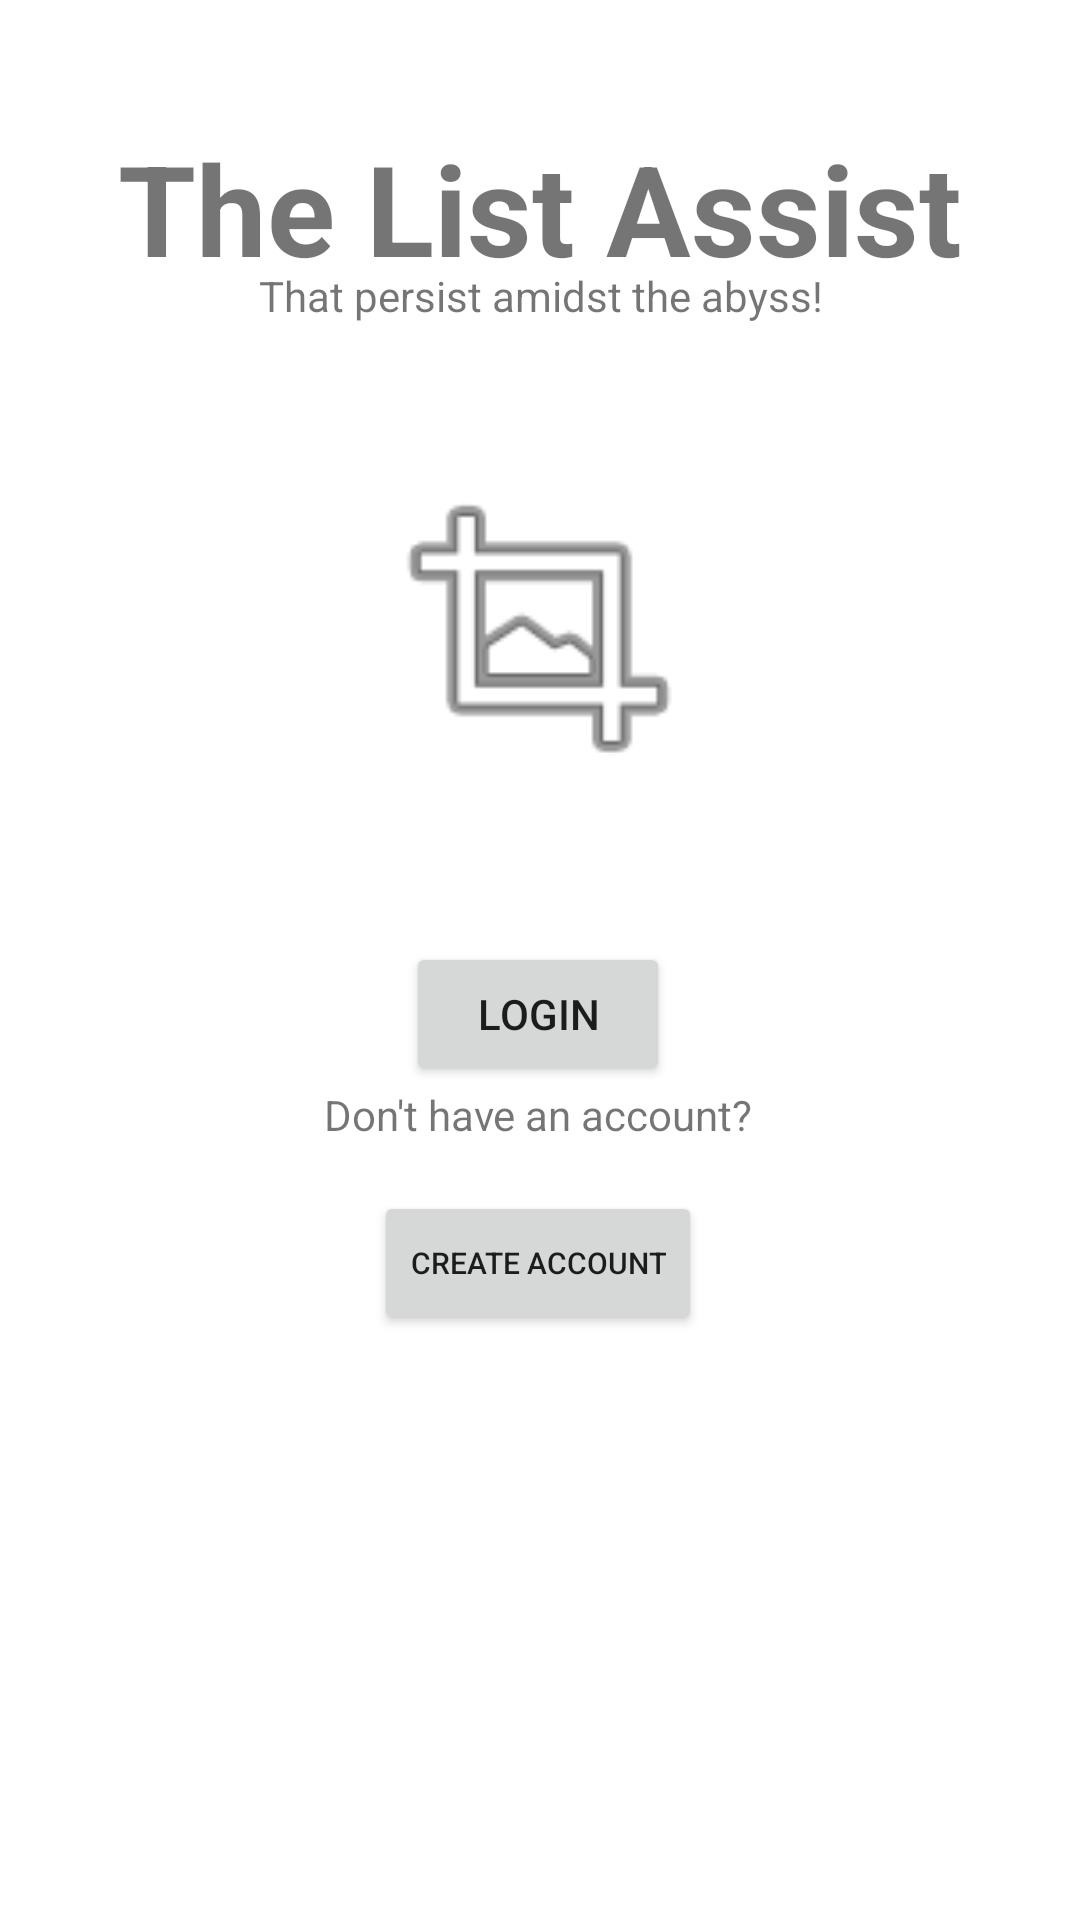

Where to tap for icons on this 1080x1920 app screen, as (x=x, y=y):
crop: (x=539, y=629)
